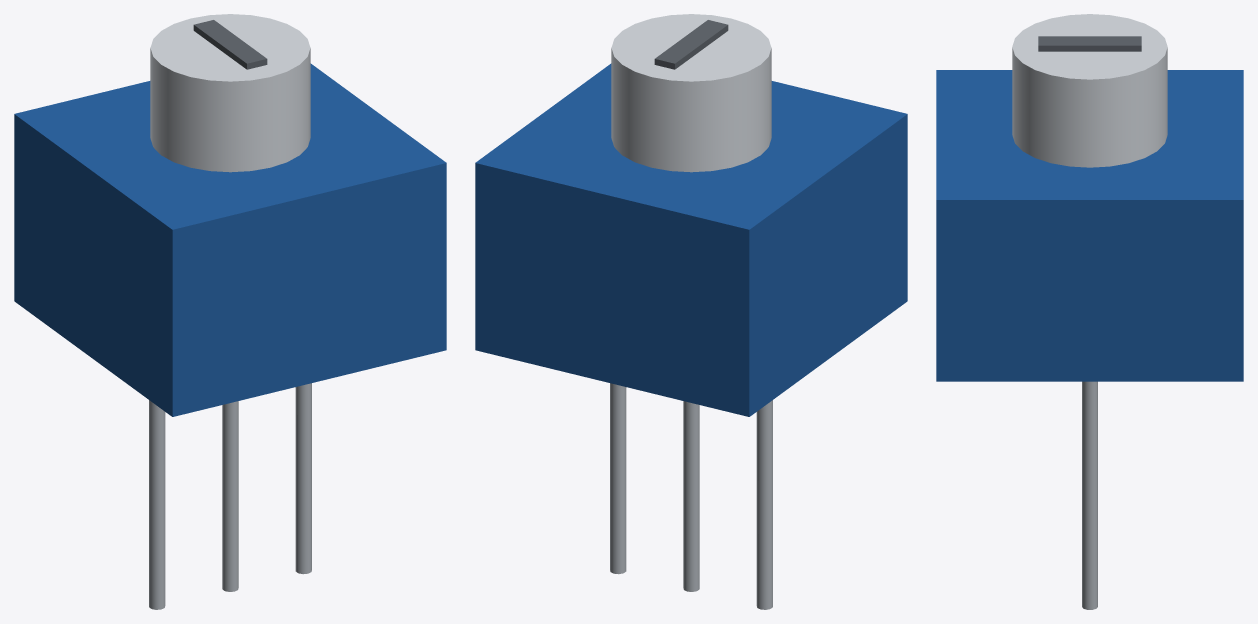
Rendered from potentiometer-10k.glb.
The picture shows the model from 3 angles, left to right: view 1: azimuth 30°, elevation 25°; view 2: azimuth 150°, elevation 25°; view 3: azimuth 270°, elevation 25°; orthographic projection. The views are drawn at different scales.
Visible parts, largest first — view 1: pot_body, pot_knob, pot_lead_1, pot_lead_2, pot_lead_3, pot_slot; view 2: pot_body, pot_knob, pot_lead_1, pot_lead_2, pot_lead_3, pot_slot; view 3: pot_body, pot_knob, pot_lead_3, pot_slot.
Part boxes in pixels (x1,y1,x2,y2): pot_body: (14, 63, 446, 416); pot_knob: (150, 14, 310, 172); pot_lead_1: (149, 400, 165, 609); pot_lead_2: (222, 401, 238, 591); pot_lead_3: (295, 383, 311, 574); pot_slot: (193, 20, 267, 69); pot_body: (475, 63, 907, 416); pot_knob: (611, 14, 771, 172); pot_lead_1: (756, 400, 772, 609); pot_lead_2: (683, 401, 699, 591); pot_lead_3: (610, 383, 626, 574); pot_slot: (654, 20, 728, 69); pot_body: (936, 70, 1243, 381); pot_knob: (1012, 14, 1167, 167); pot_lead_3: (1082, 381, 1097, 609); pot_slot: (1038, 36, 1141, 51).
Size of the model in its own units: 0.0095 by 0.0181 by 0.0095.
